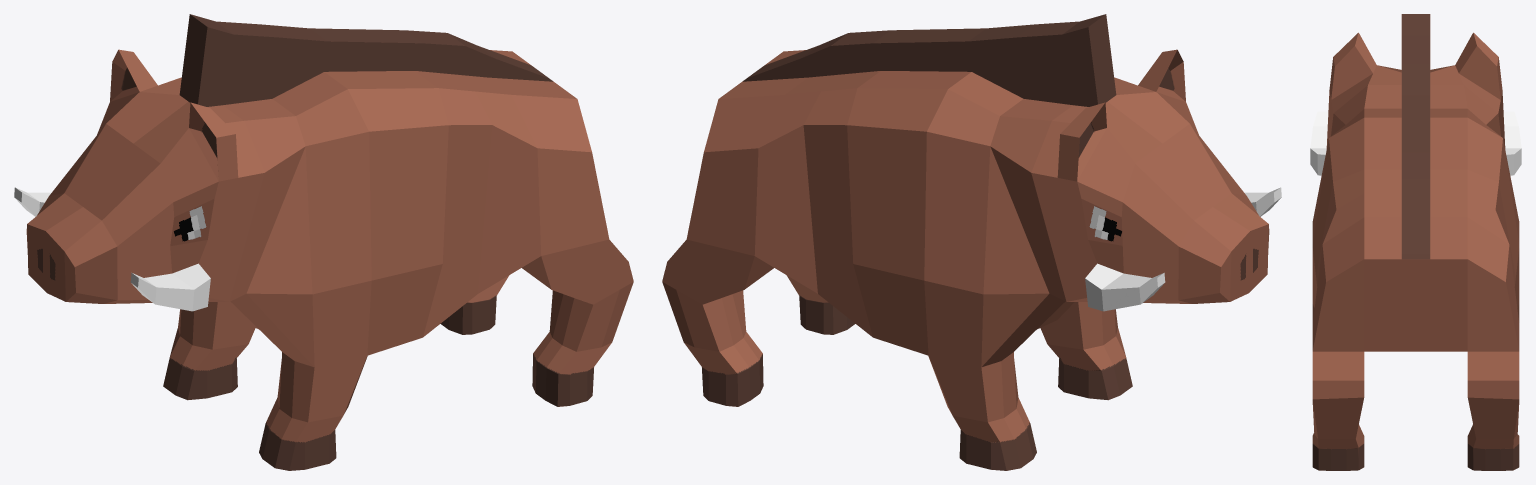
File: Boar.fbx
The picture shows the model from 3 angles, left to right: view 1: azimuth 30°, elevation 25°; view 2: azimuth 150°, elevation 25°; view 3: azimuth 270°, elevation 25°; orthographic projection. The views are drawn at different scales.
Visible parts, largest first — view 1: Plane; view 2: Plane; view 3: Plane.
Part boxes in pixels (x1,y1,x2,y2): Plane: (14,14,633,470); Plane: (662,14,1281,470); Plane: (1310,14,1521,470).
Size of the model in its own units: 147 by 111 by 64.87.
Materials: 1 (1 with a texture image).
